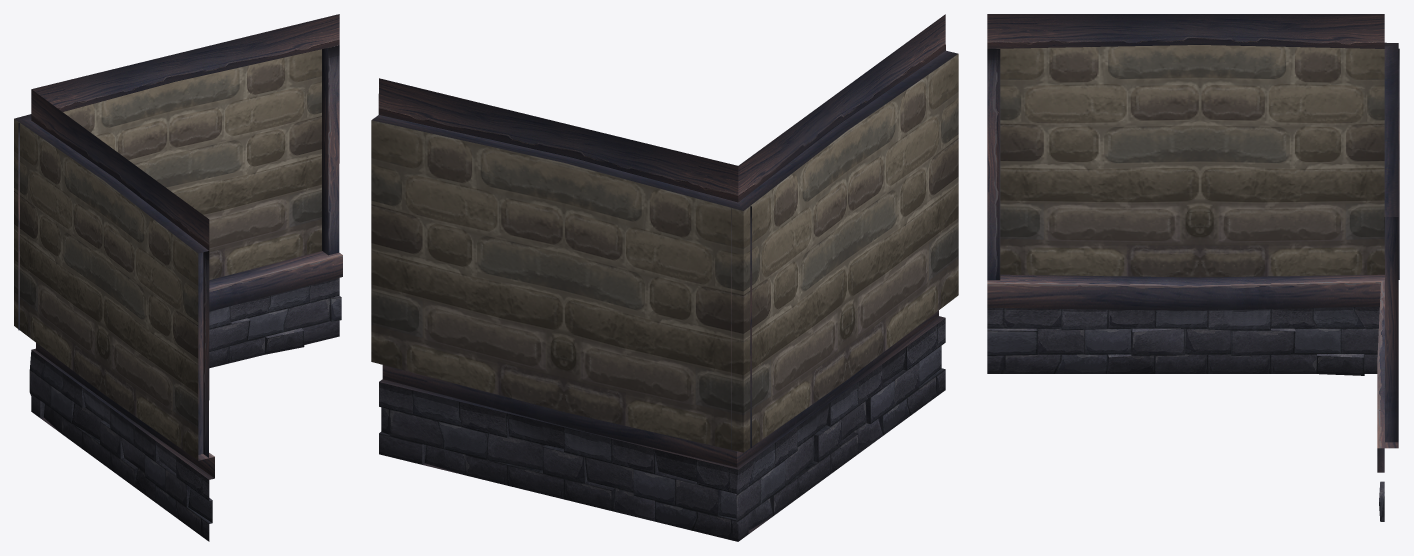
The model's file is WallCorner_1sided_detailed_Bricks.fbx.
The picture shows the model from 3 angles, left to right: view 1: azimuth 30°, elevation 25°; view 2: azimuth 150°, elevation 25°; view 3: azimuth 270°, elevation 25°; orthographic projection. The views are drawn at different scales.
Parts seen in each view (by area): view 1: WallCorner_1sided_detailed_Bricks; view 2: WallCorner_1sided_detailed_Bricks; view 3: WallCorner_1sided_detailed_Bricks.
Boxes of the visible parts, box(x1,y1,x2,y2) form: WallCorner_1sided_detailed_Bricks: box(14, 14, 342, 541); WallCorner_1sided_detailed_Bricks: box(371, 14, 958, 541); WallCorner_1sided_detailed_Bricks: box(987, 14, 1399, 521).
Size of the model in its own units: 0.6519 by 0.6266 by 0.6501.
